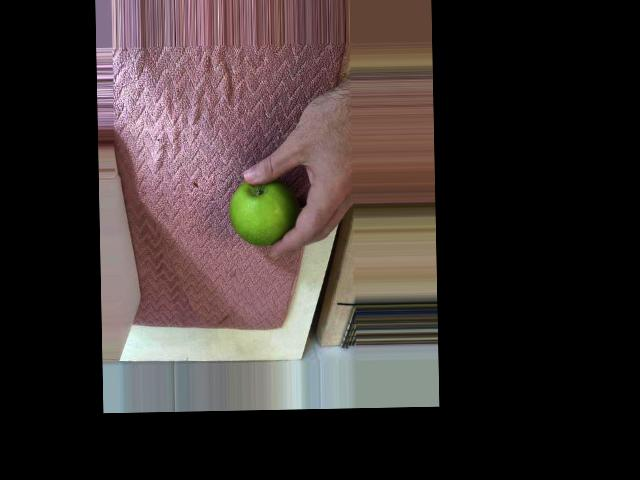apple: (218, 174, 298, 255)
